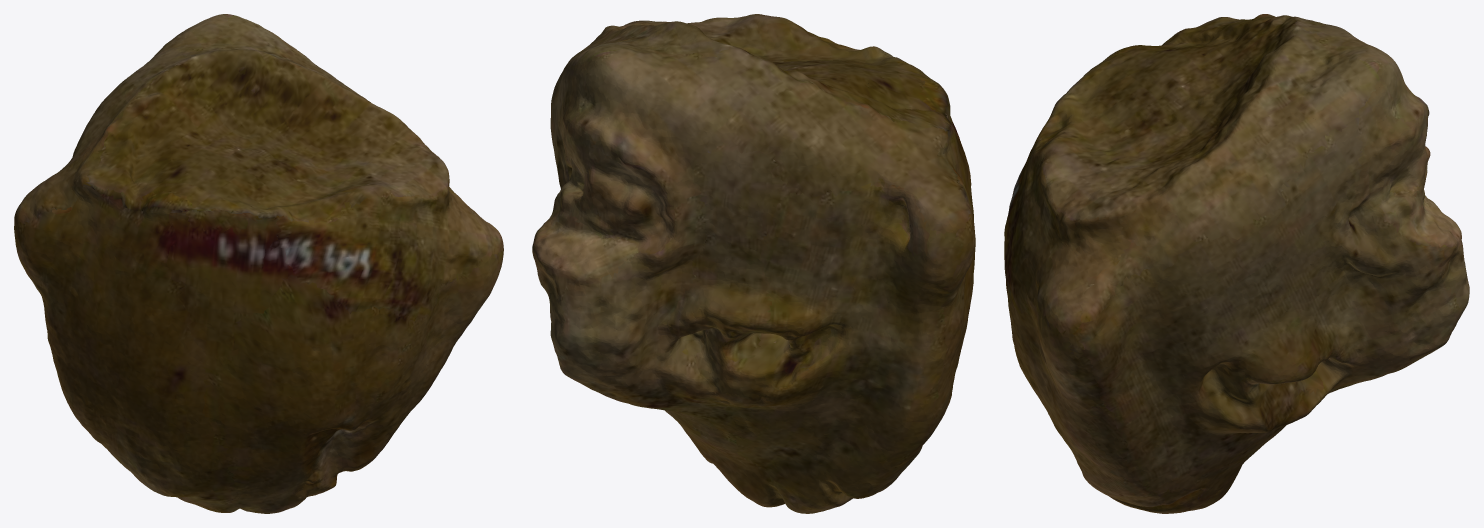
Rendered from SAS-5A-4-9_JN_2022_G3D.fbx.
3 views of the same model, side by side, from view 1: azimuth 30°, elevation 25°; view 2: azimuth 150°, elevation 25°; view 3: azimuth 270°, elevation 25° (orthographic). The views are drawn at different scales.
Visible parts, largest first — view 1: SAS-5A-4-9_JN_2022_G3D_LOD00; view 2: SAS-5A-4-9_JN_2022_G3D_LOD00; view 3: SAS-5A-4-9_JN_2022_G3D_LOD00.
Part boxes in pixels (x1,y1,x2,y2): SAS-5A-4-9_JN_2022_G3D_LOD00: (14, 14, 503, 513); SAS-5A-4-9_JN_2022_G3D_LOD00: (532, 14, 975, 513); SAS-5A-4-9_JN_2022_G3D_LOD00: (1004, 14, 1469, 513).
Size of what is drawn, in the model's own units: 4604 by 4600 by 4076.
Materials: 1 (1 with a texture image).
